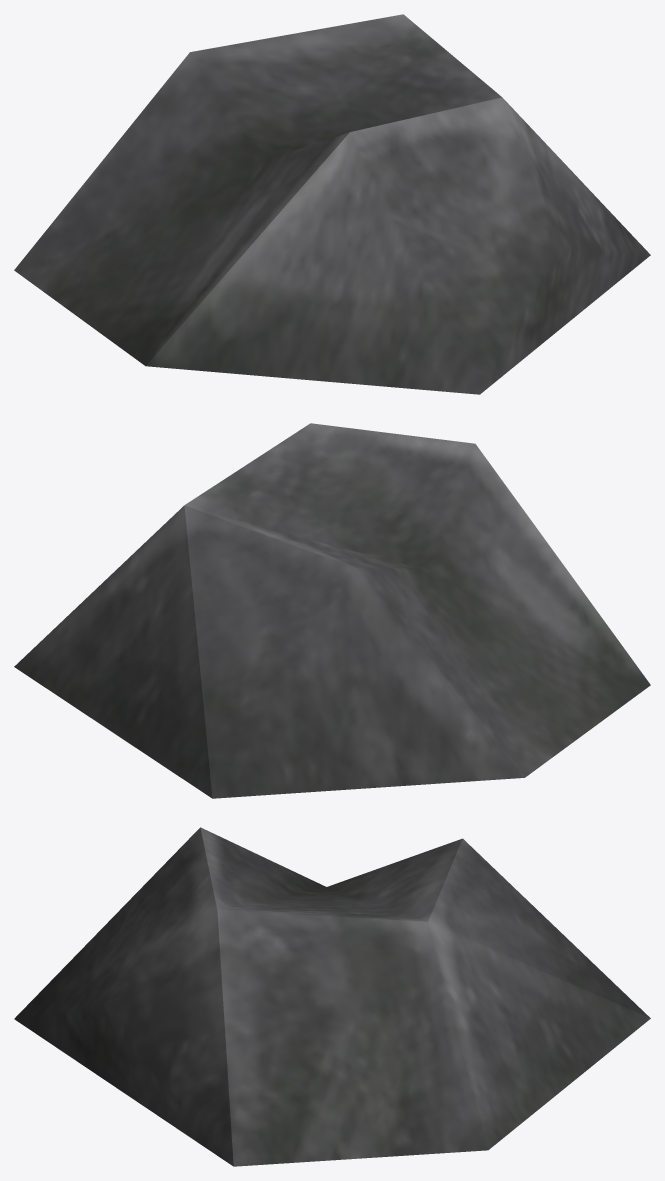
The model's file is modelRock06.fbx.
3 renders of one model, top to bottom at view 1: azimuth 30°, elevation 25°; view 2: azimuth 150°, elevation 25°; view 3: azimuth 270°, elevation 25°, orthographic. The views are drawn at different scales.
Visible parts, largest first — view 1: modelRock06; view 2: modelRock06; view 3: modelRock06.
Boxes of the visible parts, box(x1,y1,x2,y2) form: modelRock06: box(14, 14, 650, 394); modelRock06: box(14, 423, 650, 798); modelRock06: box(14, 827, 650, 1166).
Size of the model in its own units: 6.24 by 2.48 by 7.27.
